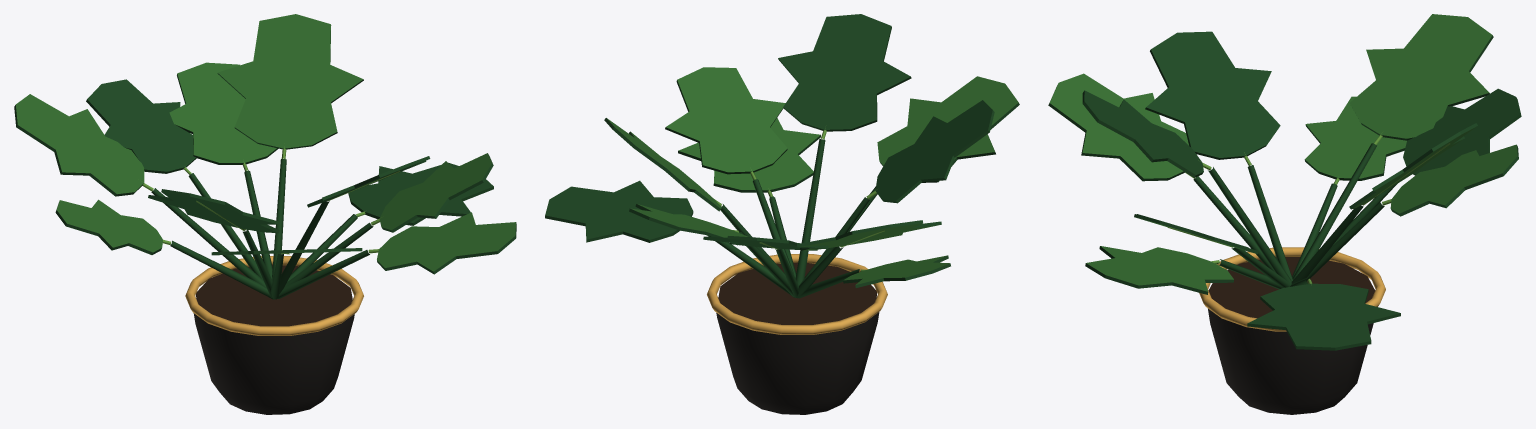
File: plant_bush.glb
3 renders of one model, left to right at view 1: azimuth 30°, elevation 25°; view 2: azimuth 150°, elevation 25°; view 3: azimuth 270°, elevation 25°, orthographic. The views are drawn at different scales.
Parts seen in each view (by area): view 1: PlantBush; view 2: PlantBush; view 3: PlantBush.
Boxes of the visible parts, bbox=[...] form: PlantBush: bbox=[14, 14, 516, 414]; PlantBush: bbox=[545, 14, 1019, 414]; PlantBush: bbox=[1048, 14, 1521, 414].
Size of the model in its own units: 1.21 by 0.8222 by 1.13.
